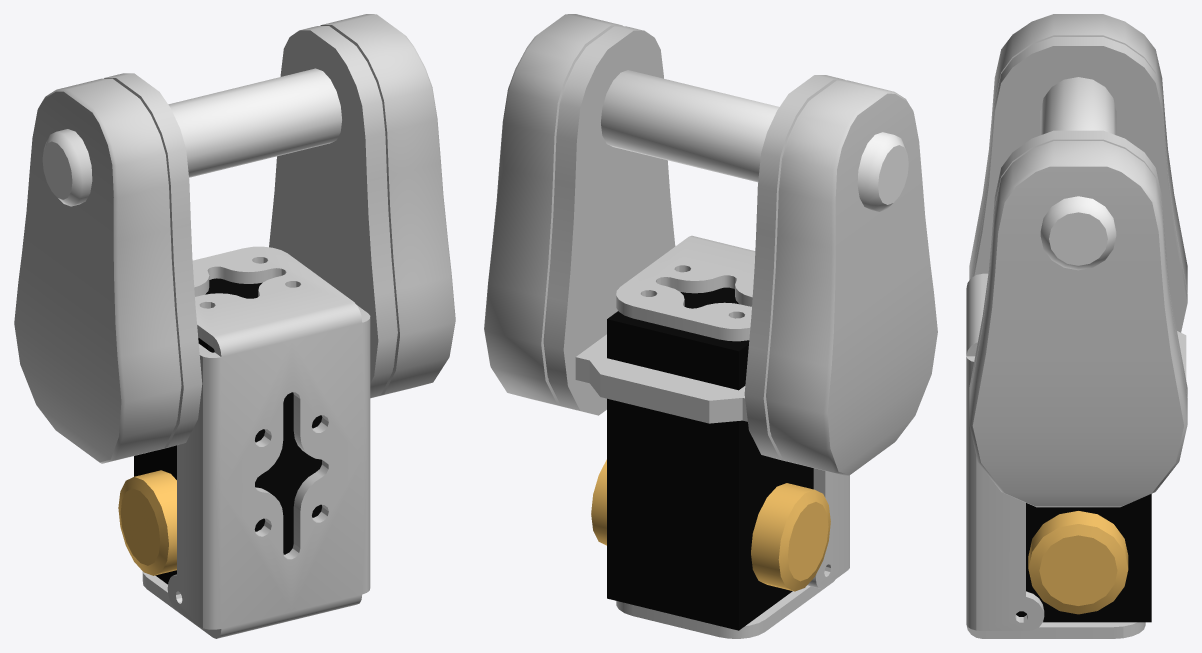
The model's file is arm3.gltf.
3 renders of one model, left to right at view 1: azimuth 30°, elevation 25°; view 2: azimuth 150°, elevation 25°; view 3: azimuth 270°, elevation 25°, orthographic. The views are drawn at different scales.
Parts seen in each view (by area): view 1: arm3; view 2: arm3; view 3: arm3.
Boxes of the visible parts, x1,y1,x2,y2 form: arm3: (14, 14, 455, 638); arm3: (484, 14, 937, 638); arm3: (966, 14, 1187, 638).
Bounding box in the file's own units: 2.96 × 4.17 × 1.62.
